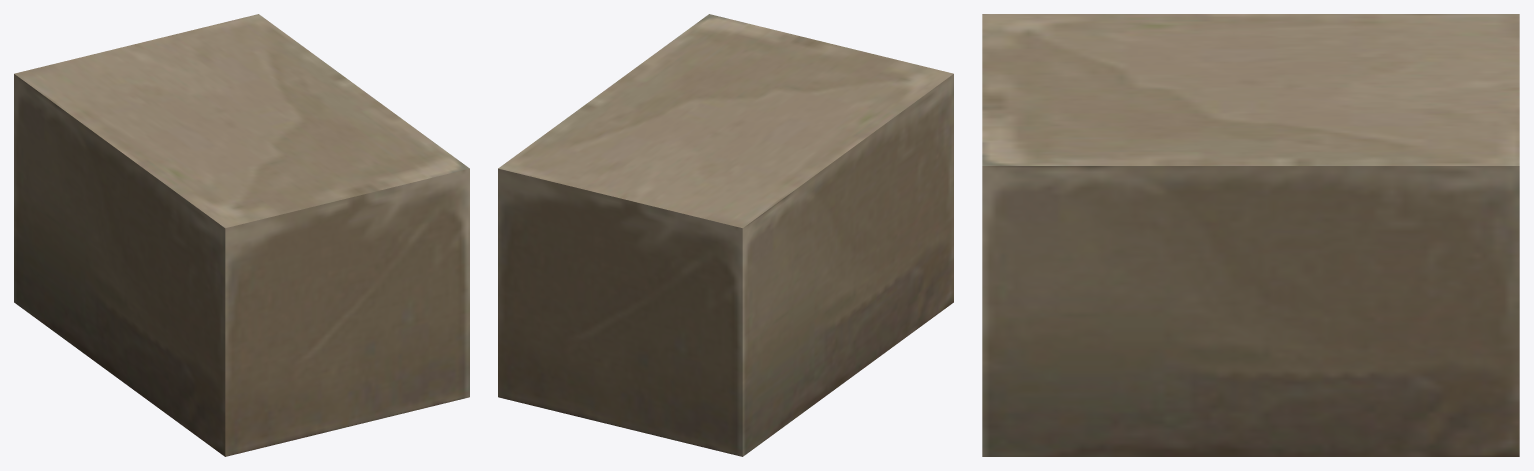
File: XiaoShiTou.FBX
The picture shows the model from 3 angles, left to right: view 1: azimuth 30°, elevation 25°; view 2: azimuth 150°, elevation 25°; view 3: azimuth 270°, elevation 25°; orthographic projection. The views are drawn at different scales.
Parts seen in each view (by area): view 1: XiaoShiTou; view 2: XiaoShiTou; view 3: XiaoShiTou.
Boxes of the visible parts, x1,y1,x2,y2 form: XiaoShiTou: (14, 14, 469, 456); XiaoShiTou: (498, 14, 953, 456); XiaoShiTou: (982, 14, 1519, 456).
Bounding box in the file's own units: 38.12 × 34.04 × 56.97.
